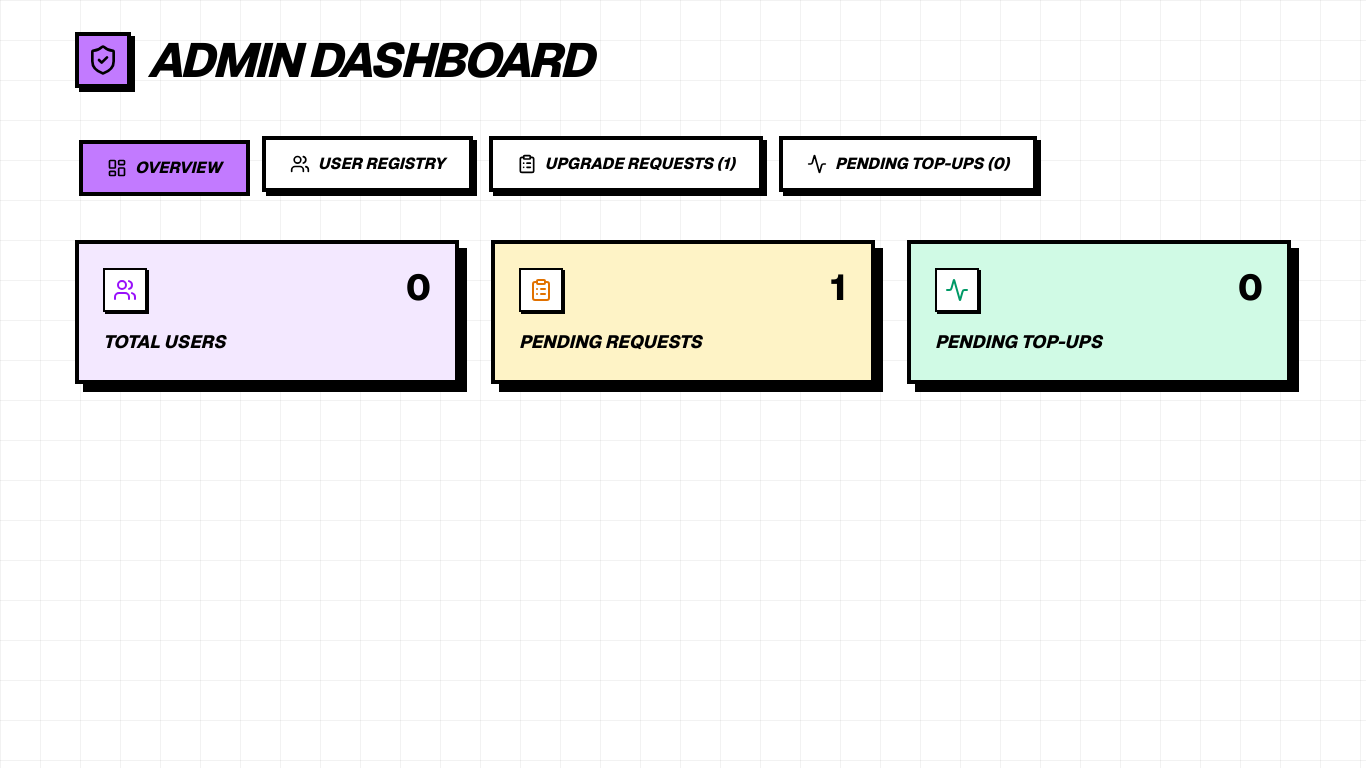
Scenario: AdminPortal › renders pending upgrade requests and filters accepted requests
What coordinates should you click on to do the following:
click the button "Upgrade Requests (1)"
I would click on:
 (626, 164)
Its box is [489,136,763,192].
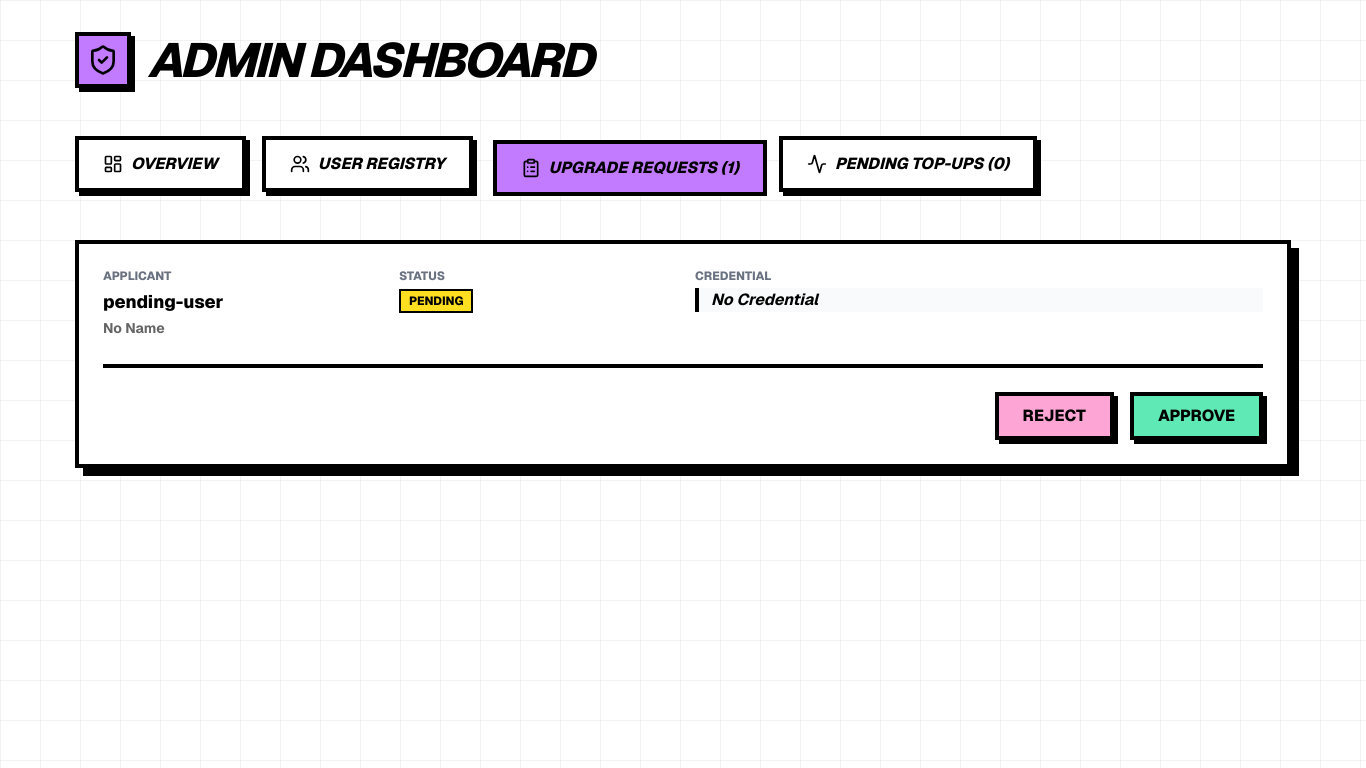
Expected: the text "pending-user" is shown, [103,290,224,313]
